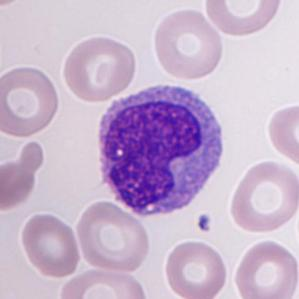Monocyte: (91, 78, 230, 222)
Platelets: (195, 212, 213, 233)
RBC: (73, 198, 153, 274), (150, 5, 227, 82), (226, 157, 298, 236), (60, 32, 138, 104), (0, 62, 62, 140), (18, 210, 82, 279), (162, 237, 230, 299), (231, 236, 299, 298), (201, 0, 285, 39), (55, 265, 148, 299), (265, 101, 298, 168), (0, 158, 38, 213)
